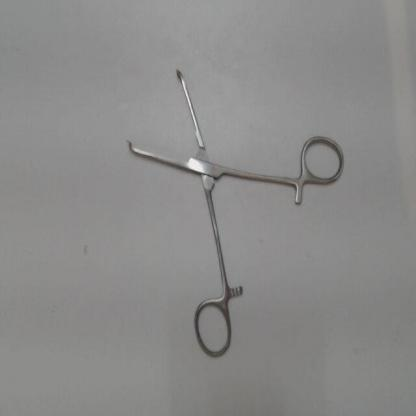Allis Tissue Forceps: (114, 60, 349, 366)
